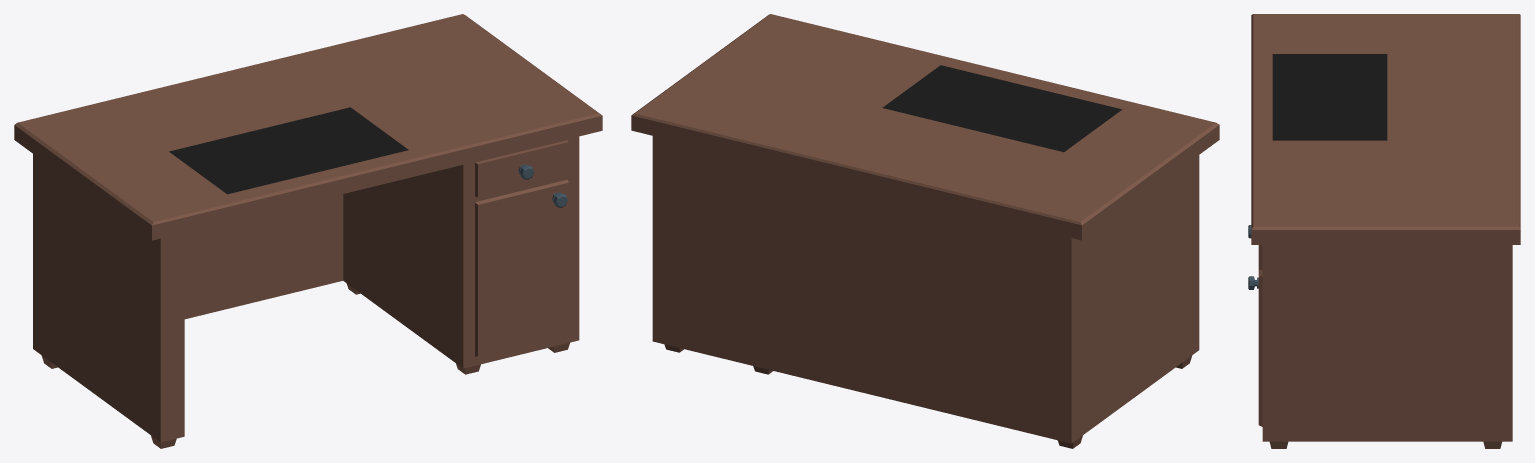
The model's file is Desk.glb.
3 renders of one model, left to right at view 1: azimuth 30°, elevation 25°; view 2: azimuth 150°, elevation 25°; view 3: azimuth 270°, elevation 25°, orthographic. The views are drawn at different scales.
Visible parts, largest first — view 1: Desk_01_Cube.037; view 2: Desk_01_Cube.037; view 3: Desk_01_Cube.037.
Boxes of the visible parts, x1=… form: Desk_01_Cube.037: x1=14, y1=14, x2=602, y2=448; Desk_01_Cube.037: x1=631, y1=14, x2=1219, y2=448; Desk_01_Cube.037: x1=1248, y1=14, x2=1520, y2=448.
Size of the model in its own units: 9.94 by 5.01 by 5.31.
